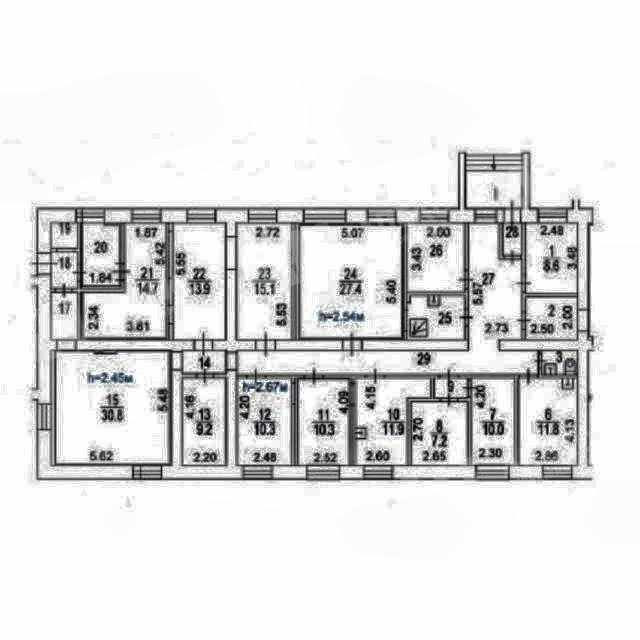room: (237, 223, 538, 375), (55, 350, 170, 465), (300, 225, 402, 338), (82, 223, 165, 339), (238, 225, 291, 339), (358, 380, 429, 464), (175, 225, 225, 339), (520, 378, 577, 465), (240, 380, 291, 464), (299, 379, 349, 464), (407, 224, 465, 292), (183, 377, 226, 465), (525, 223, 576, 293), (472, 380, 514, 464), (412, 403, 467, 464), (408, 295, 465, 339), (82, 223, 118, 285), (526, 296, 577, 339), (467, 171, 521, 206), (52, 293, 77, 339), (52, 252, 77, 288), (183, 351, 224, 372), (542, 351, 576, 373), (51, 223, 77, 248), (503, 223, 521, 255), (435, 380, 467, 397)
